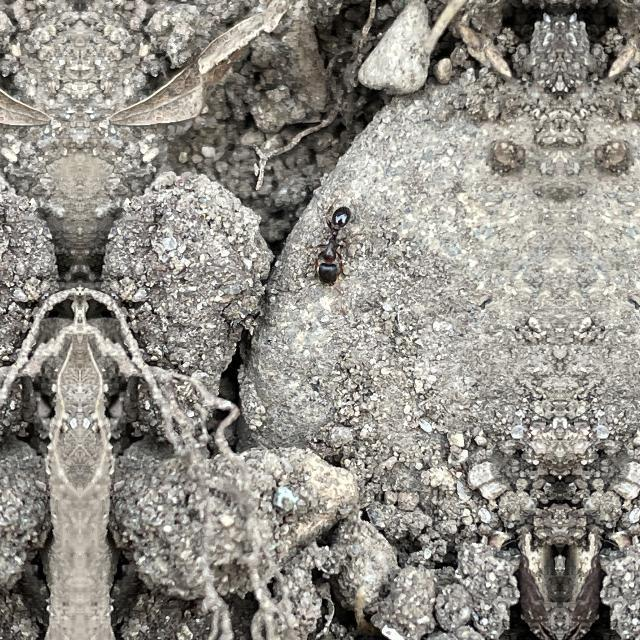Tetramorium: (305, 198, 359, 294)
